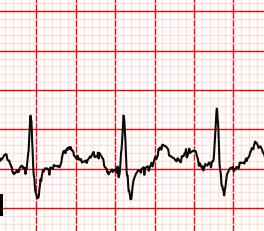ST Depression: (113, 162, 141, 202), (23, 159, 47, 201), (208, 158, 232, 200)
